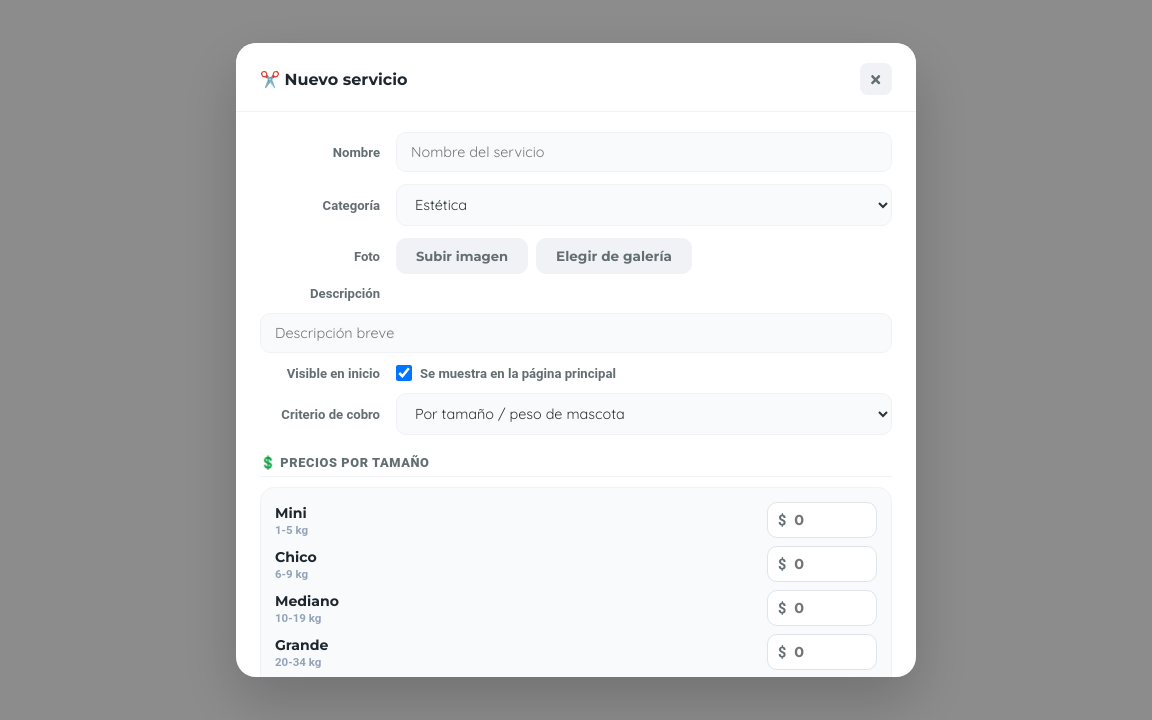
Test: ServiceFormModal (admin) › el toggle "Visible en inicio" cambia el texto de ayuda al desmarcarse
Check: the text "Se muestra en la página principal" is shown, box [420,366,616,381]
Click the checkbox at {"x": 404, "y": 373}, box [396,365,412,381]
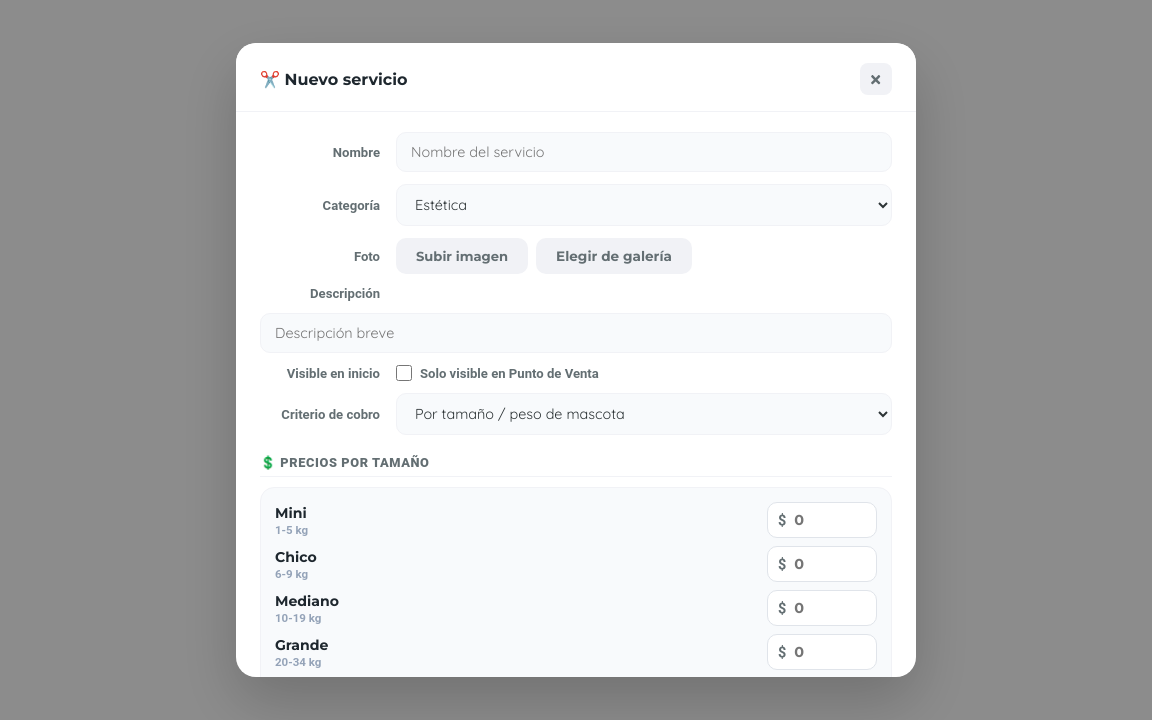
Check: the checkbox is not checked, box [396,365,412,381]
Check: the text "Solo visible en Punto de Venta" is shown, box [420,366,599,381]
